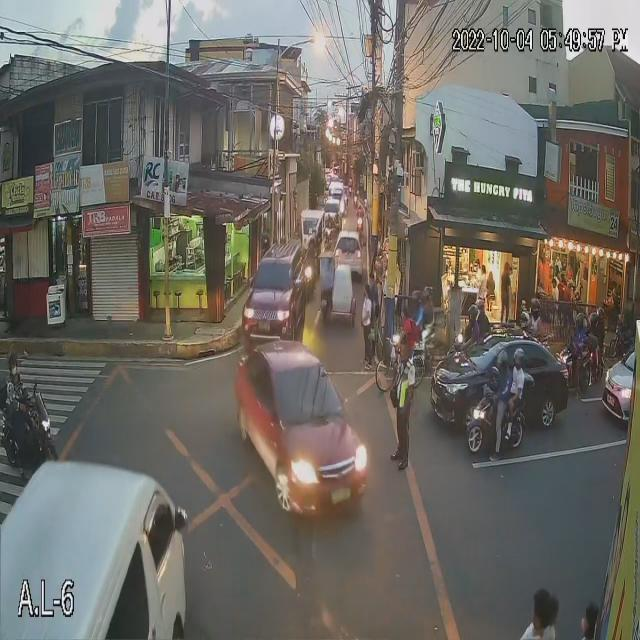helmet: (1, 344, 26, 380), (466, 294, 490, 310), (526, 298, 544, 317), (570, 312, 587, 331), (518, 309, 532, 331), (514, 348, 528, 369), (498, 349, 510, 371), (412, 285, 421, 313), (422, 281, 435, 300), (464, 306, 482, 319), (597, 306, 608, 324)
motorcycle: (0, 393, 56, 475), (469, 389, 524, 458), (559, 343, 597, 388), (354, 218, 366, 234)
rider: (1, 343, 29, 437), (488, 348, 509, 414), (506, 346, 527, 412), (572, 308, 591, 361), (410, 285, 428, 334), (475, 294, 494, 334), (526, 296, 543, 336), (421, 279, 436, 320), (463, 306, 482, 338), (518, 304, 532, 339), (588, 309, 599, 349), (595, 302, 607, 335), (354, 202, 366, 223)
